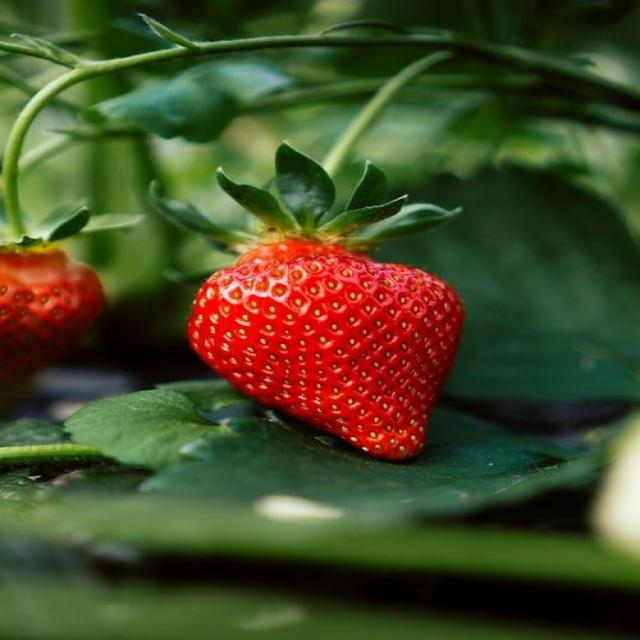mature: (189, 242, 465, 456)
